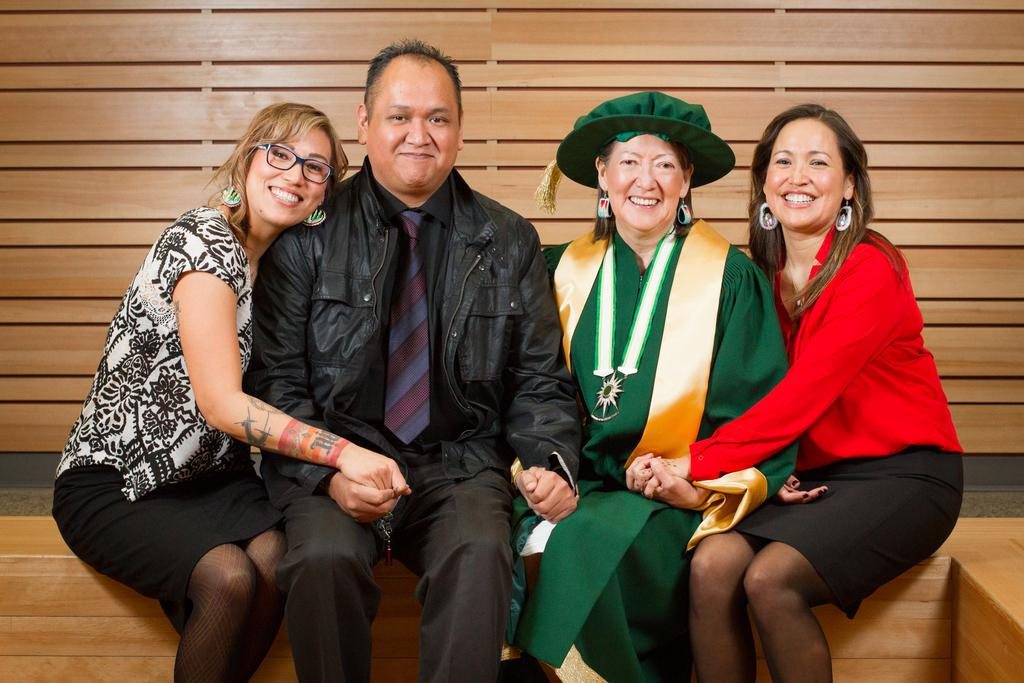Hat: (534, 90, 734, 215)
